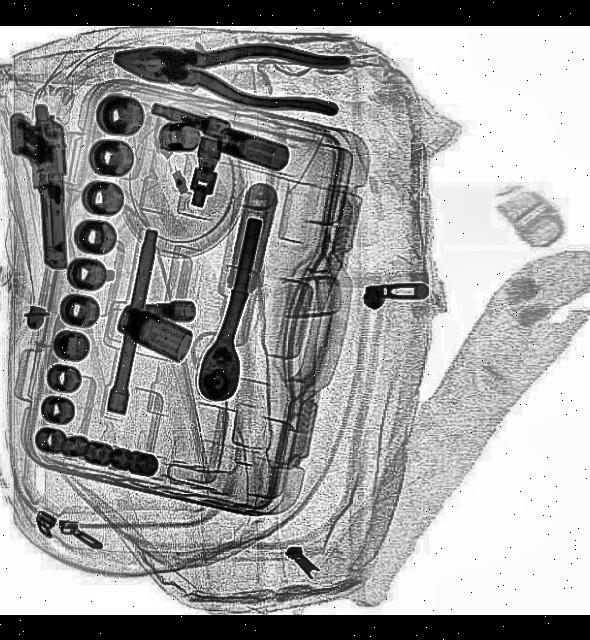Gun: (9, 104, 75, 270)
Pliers: (112, 30, 354, 116)
